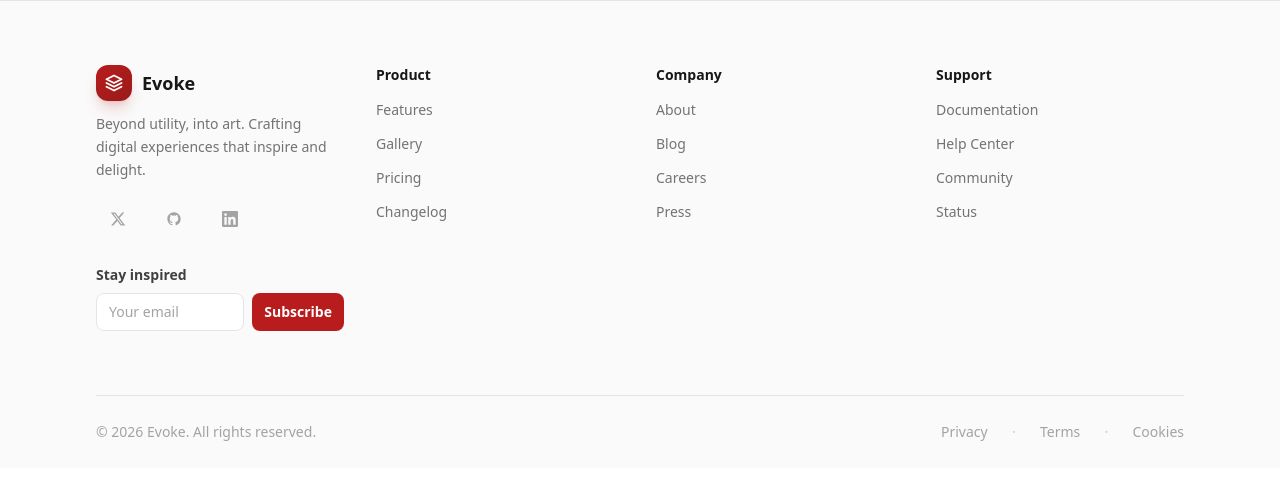
Footer › clears error when user submits again after failure
// First submit fails
Step 1. Type "test@example.com" into the field named "Email address for newsletter" → (170,312), box [96,293,244,331]
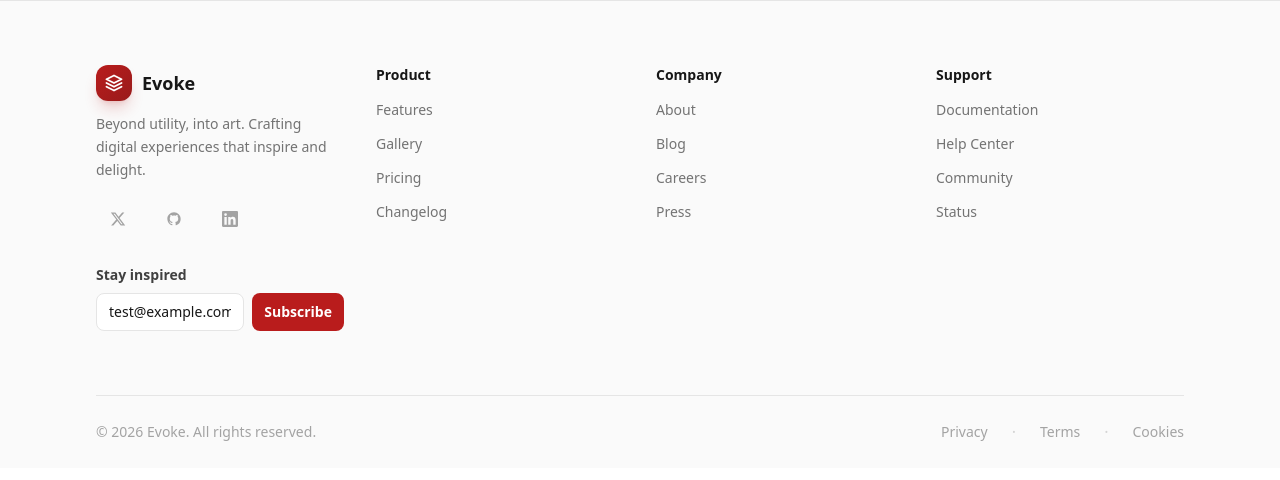
Step 2. Click the button with aria-label "Subscribe to newsletter" → (298,312), box [252,293,344,331]
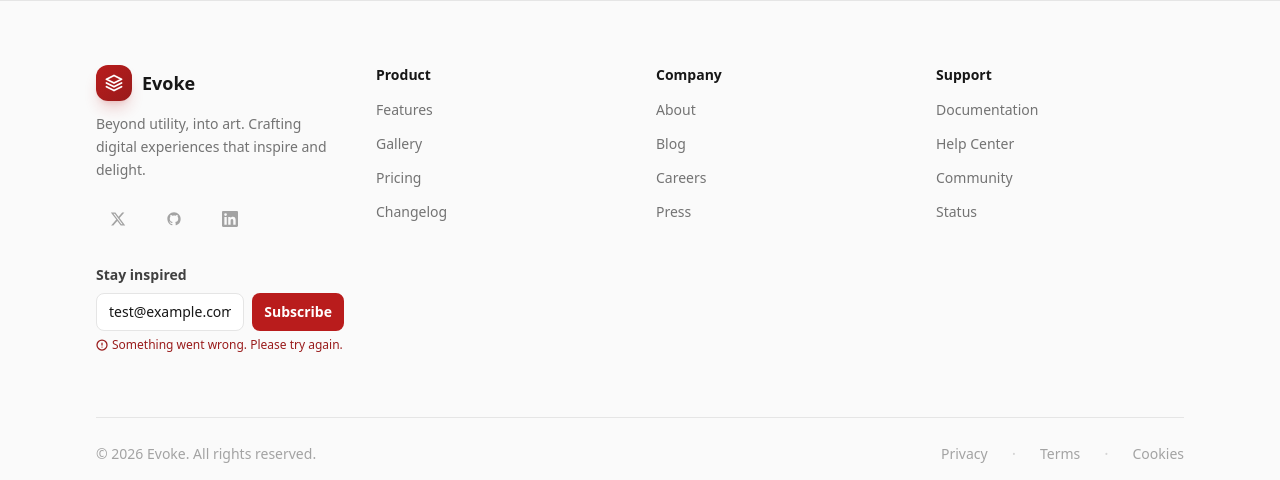
Expected: the message "Something went wrong. Please try again." is shown, [96,337,344,353]
// Second submit succeeds
Step 3. Click the button with aria-label "Subscribe to newsletter" → (298,312), box [252,293,344,331]
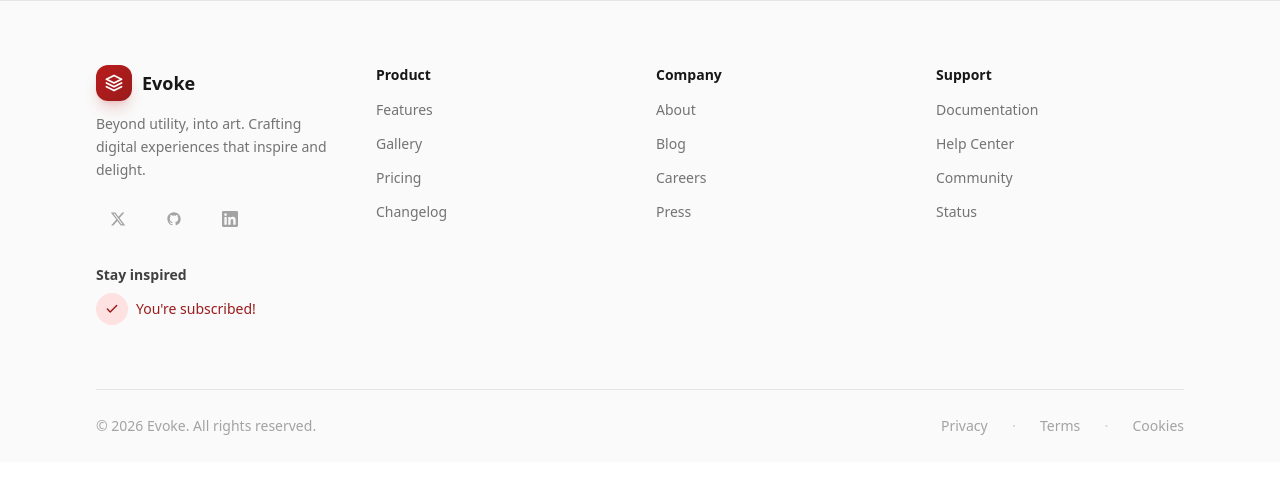
Expected: the text "You're subscribed!" is shown, [136,299,256,319]
